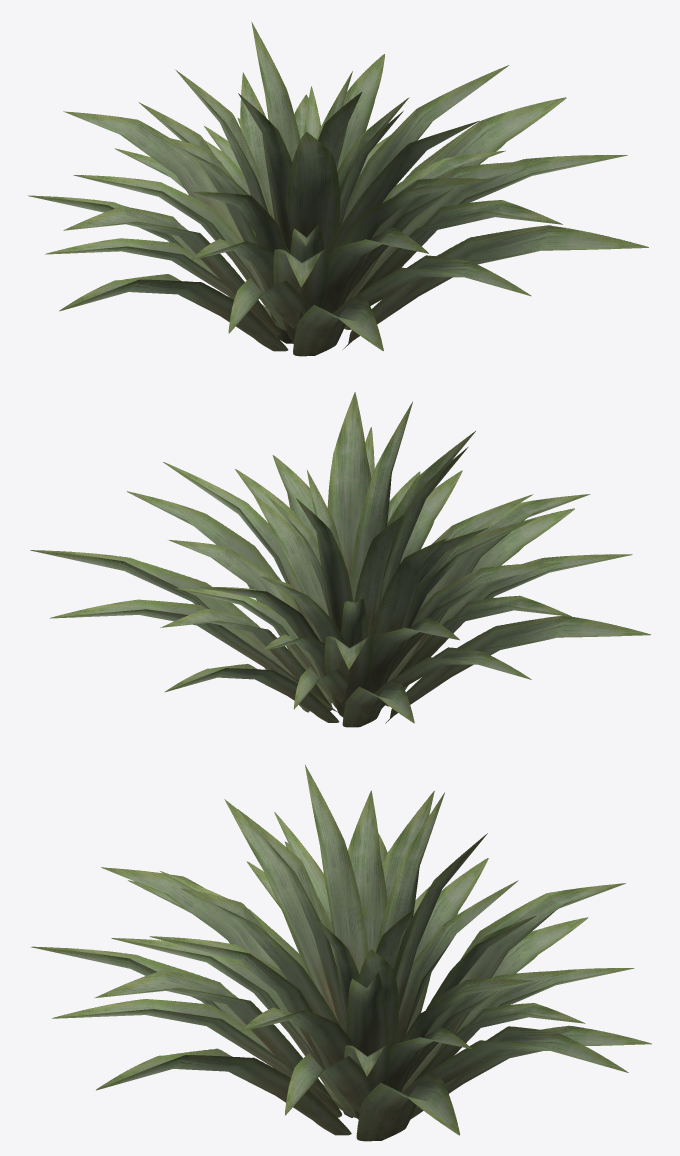
Rendered from MB_American_Agave_01.fbx.
3 views of the same model, one above another, from view 1: azimuth 30°, elevation 25°; view 2: azimuth 150°, elevation 25°; view 3: azimuth 270°, elevation 25° (orthographic). The views are drawn at different scales.
Visible parts, largest first — view 1: MB_American_Agave_01_LOD0; view 2: MB_American_Agave_01_LOD0; view 3: MB_American_Agave_01_LOD0.
Boxes of the visible parts, bbox=[...] form: MB_American_Agave_01_LOD0: bbox=[28, 22, 648, 356]; MB_American_Agave_01_LOD0: bbox=[30, 392, 650, 727]; MB_American_Agave_01_LOD0: bbox=[31, 765, 651, 1141].
Size of what is drawn, in the model's own units: 277 by 129 by 240.
